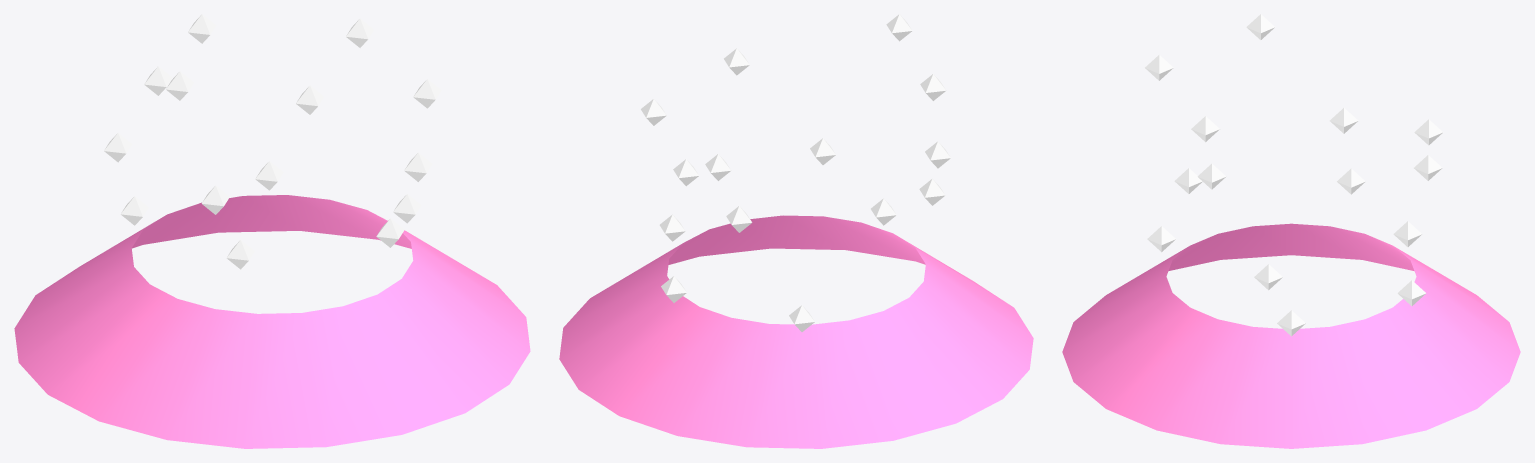
Rendered from outfit-dancerOutfit.glb.
3 views of the same model, side by side, from view 1: azimuth 30°, elevation 25°; view 2: azimuth 150°, elevation 25°; view 3: azimuth 270°, elevation 25° (orthographic). The views are drawn at different scales.
Parts seen in each view (by area): view 1: dancerOutfit, torso; view 2: dancerOutfit, torso; view 3: dancerOutfit, torso.
Part boxes in pixels (x1,y1,x2,y2): dancerOutfit: [14, 195, 530, 448]; torso: [104, 14, 441, 269]; dancerOutfit: [559, 215, 1033, 448]; torso: [641, 14, 950, 331]; dancerOutfit: [1062, 223, 1520, 448]; torso: [1145, 14, 1442, 336].
Bounding box in the file's own units: 1.1 × 0.745 × 1.1.
